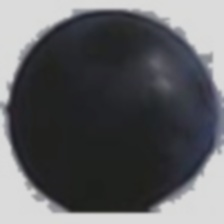grapes: (48, 27, 207, 224)
